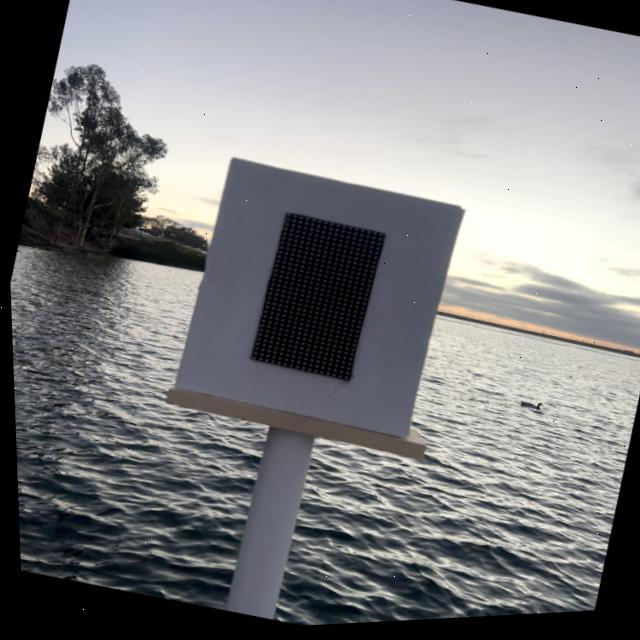led: (195, 170, 427, 433)
